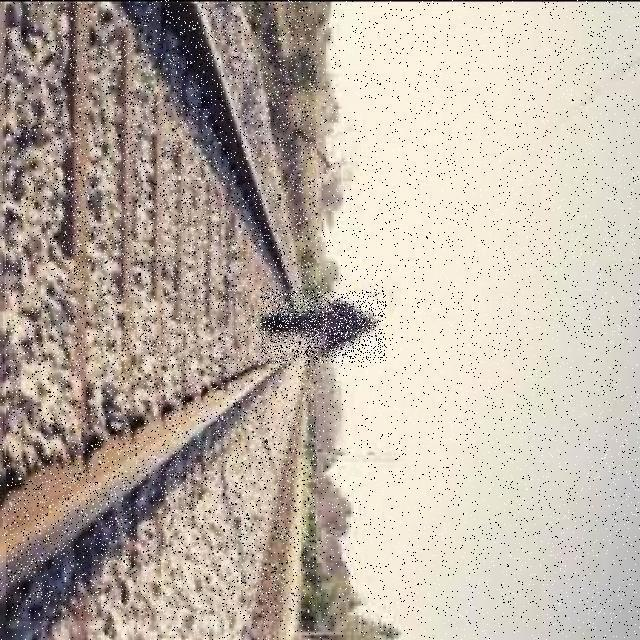rail: (8, 5, 317, 622)
